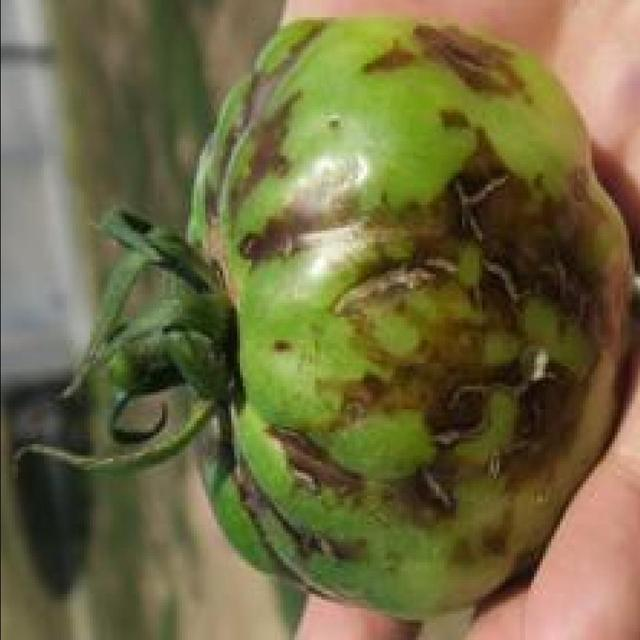Spotted wilt Virus Fruit: (116, 10, 424, 413)
